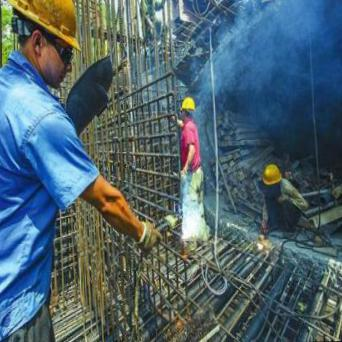helmet: (8, 1, 85, 51), (260, 163, 283, 186), (180, 95, 196, 113)
